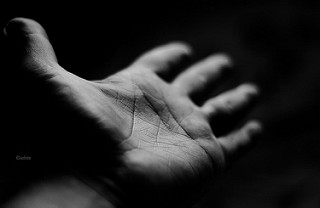palm: (85, 75, 217, 186)
